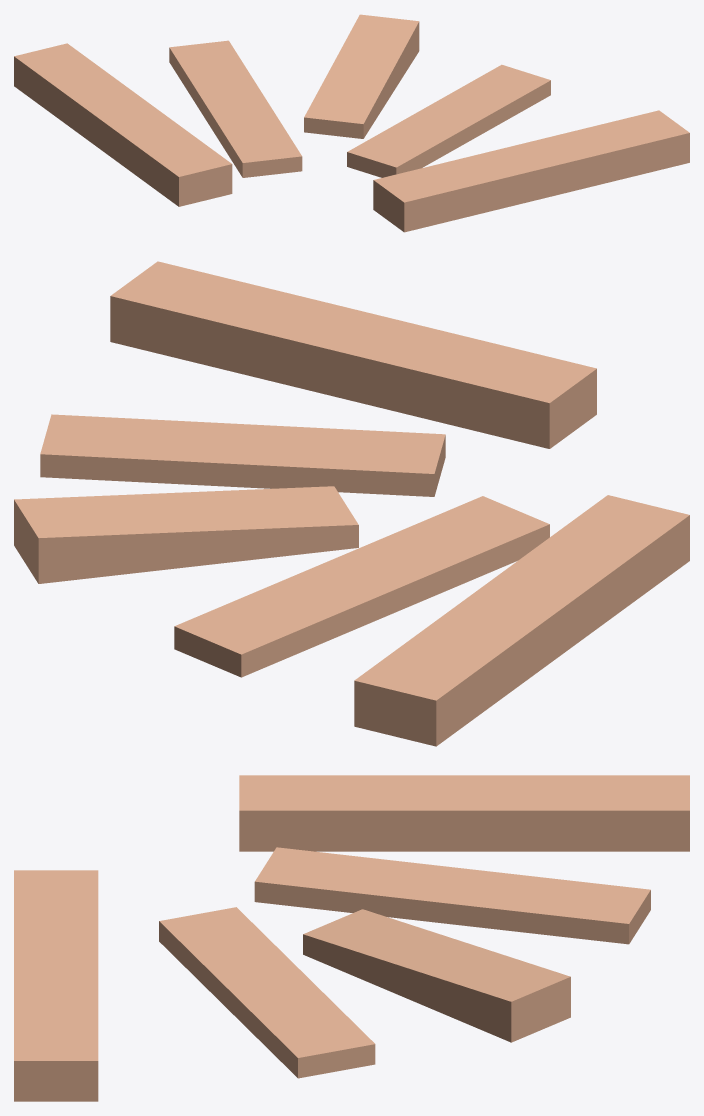
File: path_woodCorner.glb
The picture shows the model from 3 angles, top to bottom: view 1: azimuth 30°, elevation 25°; view 2: azimuth 150°, elevation 25°; view 3: azimuth 270°, elevation 25°; orthographic projection. The views are drawn at different scales.
Parts seen in each view (by area): view 1: path_woodCorner; view 2: path_woodCorner; view 3: path_woodCorner.
Part boxes in pixels (x1,y1,x2,y2): path_woodCorner: (14, 14, 689, 232); path_woodCorner: (14, 261, 689, 746); path_woodCorner: (14, 775, 689, 1101).
Bounding box in the file's own units: 0.75 × 0.05 × 0.75.
